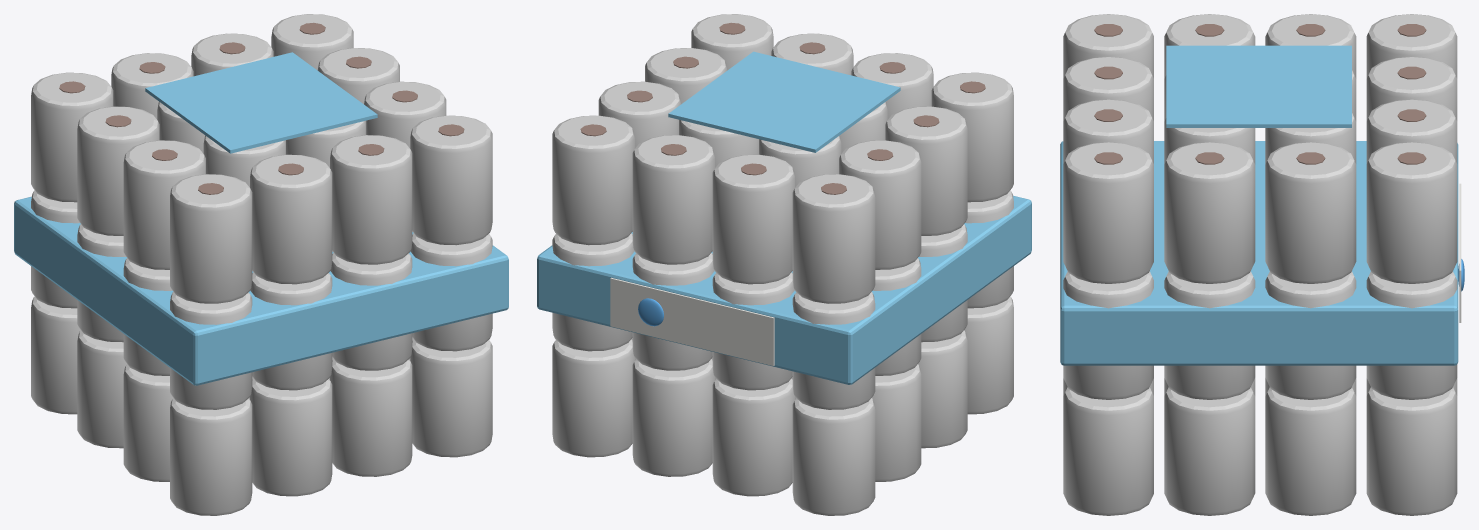
Rendered from toilet_paper.fbx.
3 renders of one model, left to right at view 1: azimuth 30°, elevation 25°; view 2: azimuth 150°, elevation 25°; view 3: azimuth 270°, elevation 25°, orthographic. The views are drawn at different scales.
Visible parts, largest first — view 1: Bulk Toilet Paper; view 2: Bulk Toilet Paper; view 3: Bulk Toilet Paper.
Boxes of the visible parts, x1=… form: Bulk Toilet Paper: x1=14, y1=14, x2=508, y2=515; Bulk Toilet Paper: x1=537, y1=14, x2=1031, y2=515; Bulk Toilet Paper: x1=1060, y1=14, x2=1464, y2=515.
Bounding box in the file's own units: 1.93 × 1.87 × 1.96.
